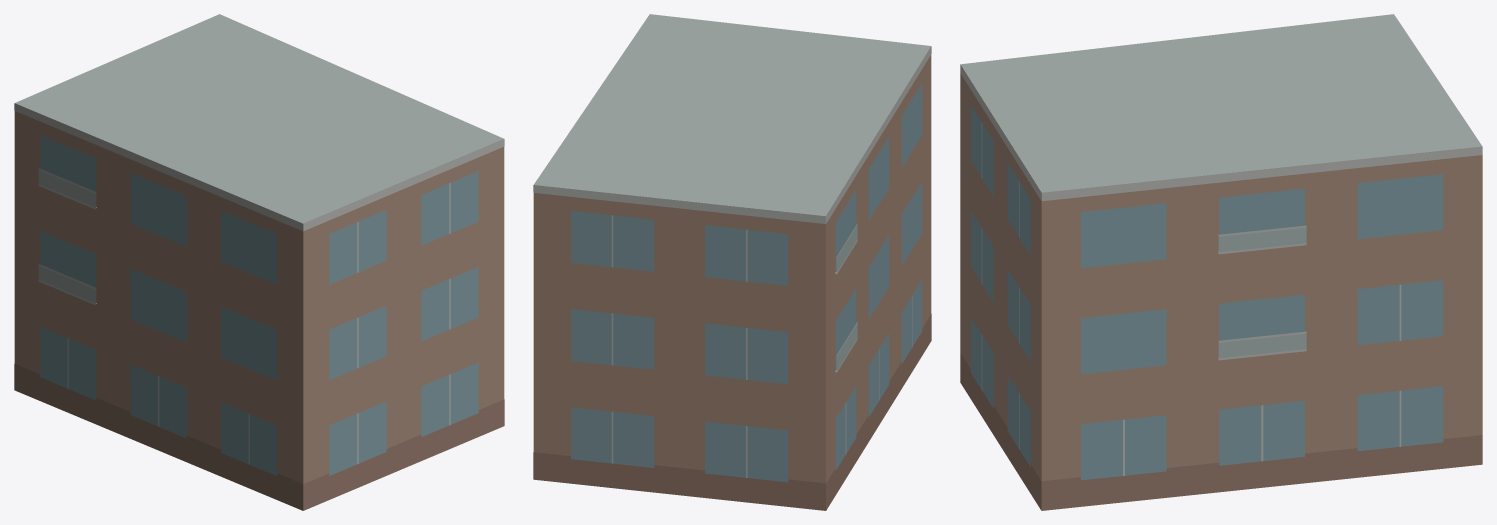
Rendered from survey-upis-32649307.glb.
3 views of the same model, side by side, from view 1: azimuth 30°, elevation 25°; view 2: azimuth 150°, elevation 25°; view 3: azimuth 270°, elevation 25° (orthographic). The views are drawn at different scales.
Visible parts, largest first — view 1: survey-upis-32649307.tmp; view 2: survey-upis-32649307.tmp; view 3: survey-upis-32649307.tmp.
Boxes of the visible parts, x1=… form: survey-upis-32649307.tmp: x1=14, y1=14, x2=504, y2=510; survey-upis-32649307.tmp: x1=533, y1=14, x2=931, y2=510; survey-upis-32649307.tmp: x1=960, y1=14, x2=1482, y2=510.
Size of the model in its own units: 11.04 by 9.15 by 13.63.
